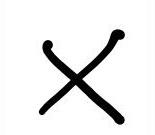mult: (37, 29, 125, 123)
